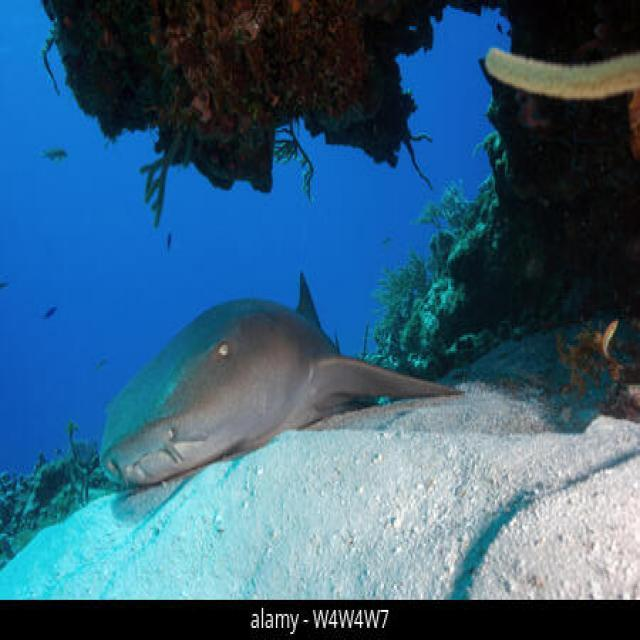Shark: (64, 241, 466, 504)
